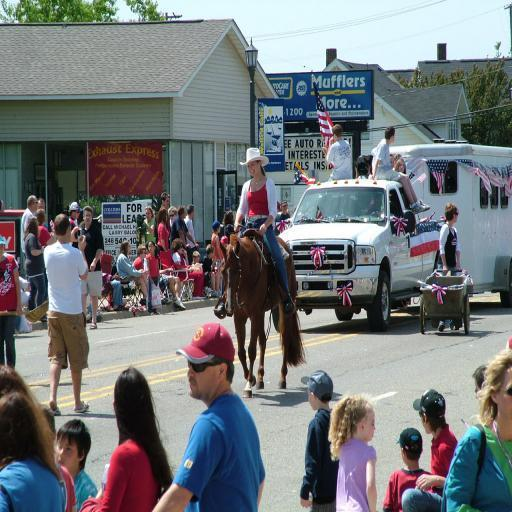horse: (218, 231, 310, 398)
